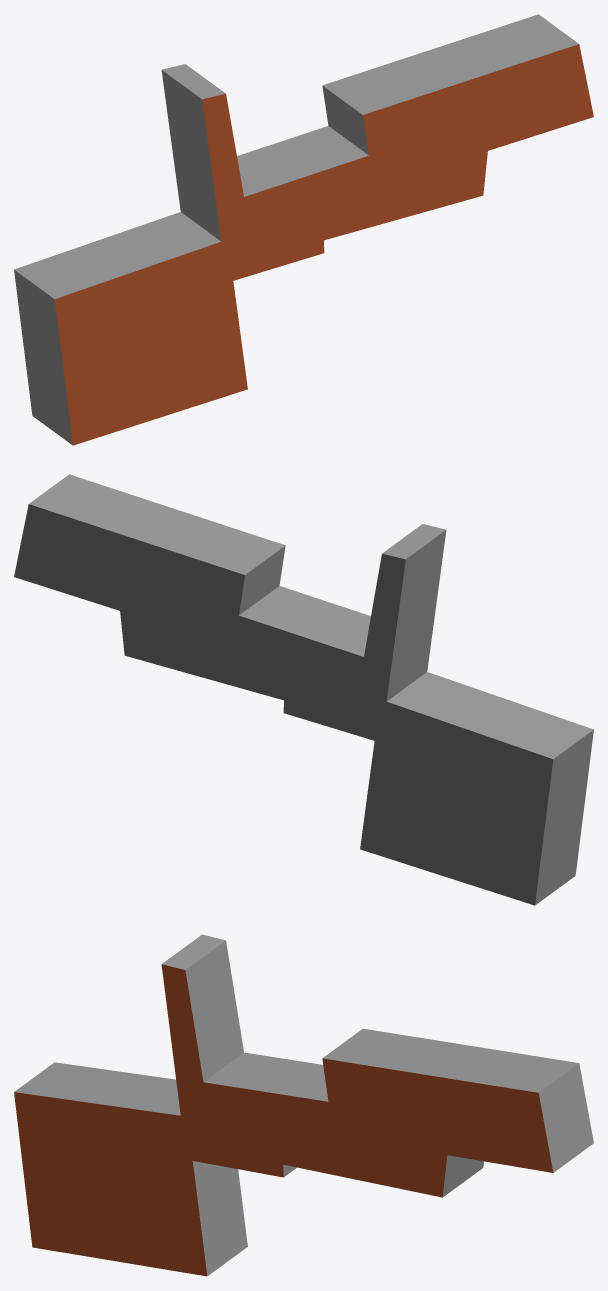
File: construction_2938_assumed_A_Casa_h6m.obj
The picture shows the model from 3 angles, top to bottom: view 1: azimuth 30°, elevation 25°; view 2: azimuth 150°, elevation 25°; view 3: azimuth 330°, elevation 25°; orthographic projection.
Visible parts, largest first — view 1: construction_2938_assumed_A_Casa; view 2: construction_2938_assumed_A_Casa; view 3: construction_2938_assumed_A_Casa.
Part boxes in pixels (left/top/right/bottom): construction_2938_assumed_A_Casa: left=14, top=14, right=593, bottom=445; construction_2938_assumed_A_Casa: left=14, top=474, right=593, bottom=905; construction_2938_assumed_A_Casa: left=14, top=934, right=593, bottom=1276.
Bounding box in the file's own units: 45.99 × 25.64 × 6.
